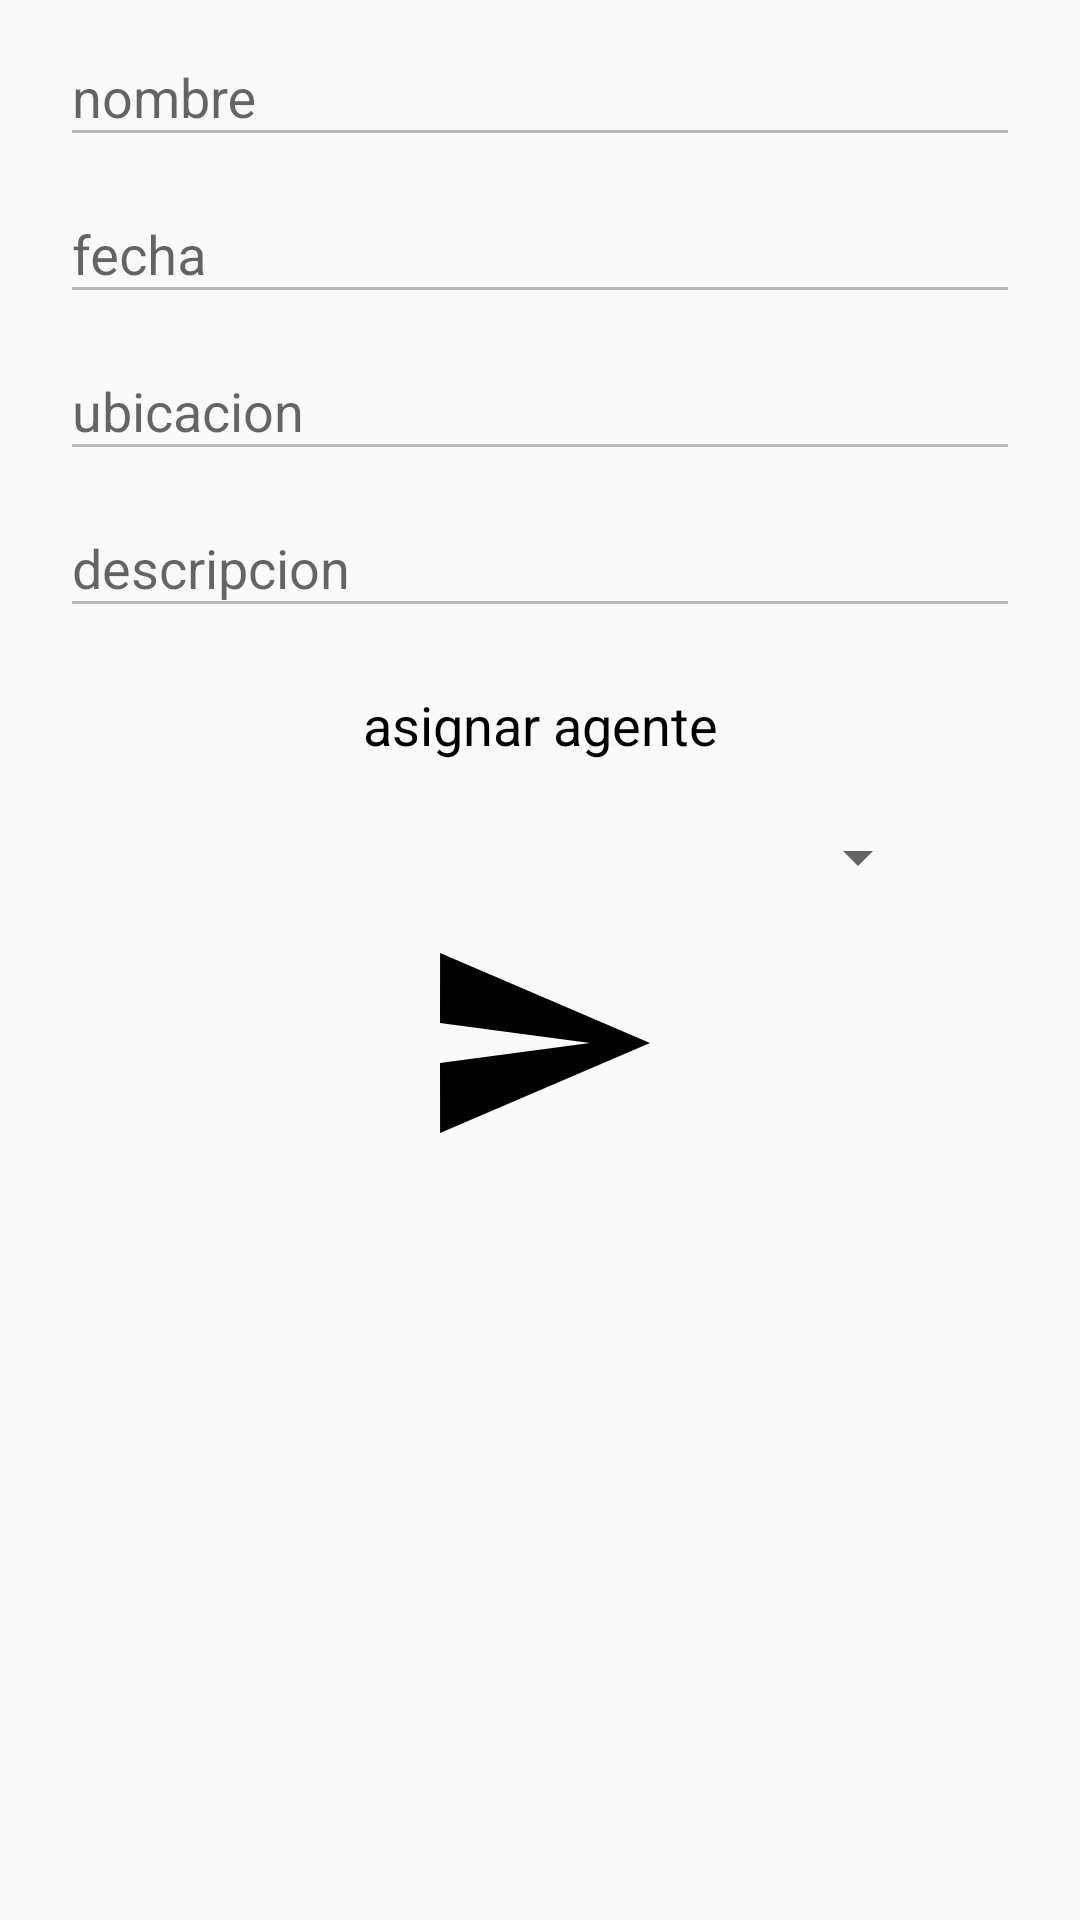

Named icons in this screenshot (1080 x 1920) and their bounding boxes, bbox=(x1, y1, x2, y2):
enviar: bbox=(440, 953, 650, 1133)
